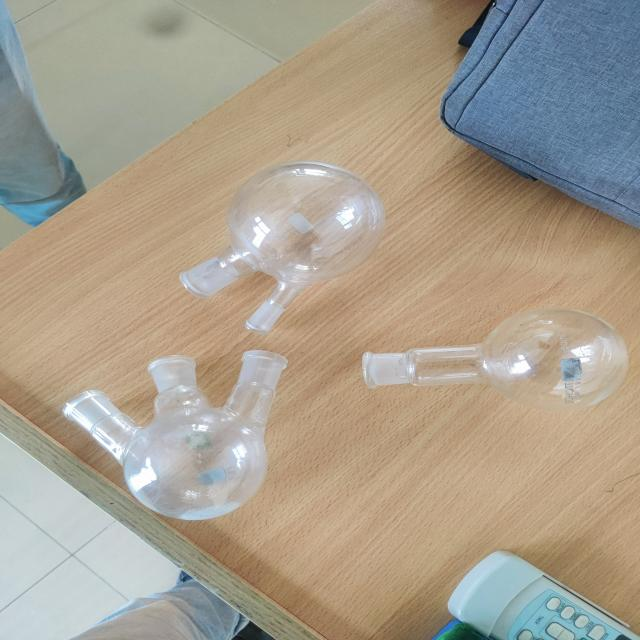Round_Bottom_Flask_Borosilicate_Glass_1_Neck: (352, 292, 640, 424)
Round_Bottom_Flask_Borosilicate_Glass_2_Neck: (171, 117, 400, 347)
Round_Bottom_Flask_Borosilicate_Glass_3_Neck: (26, 342, 340, 540)
